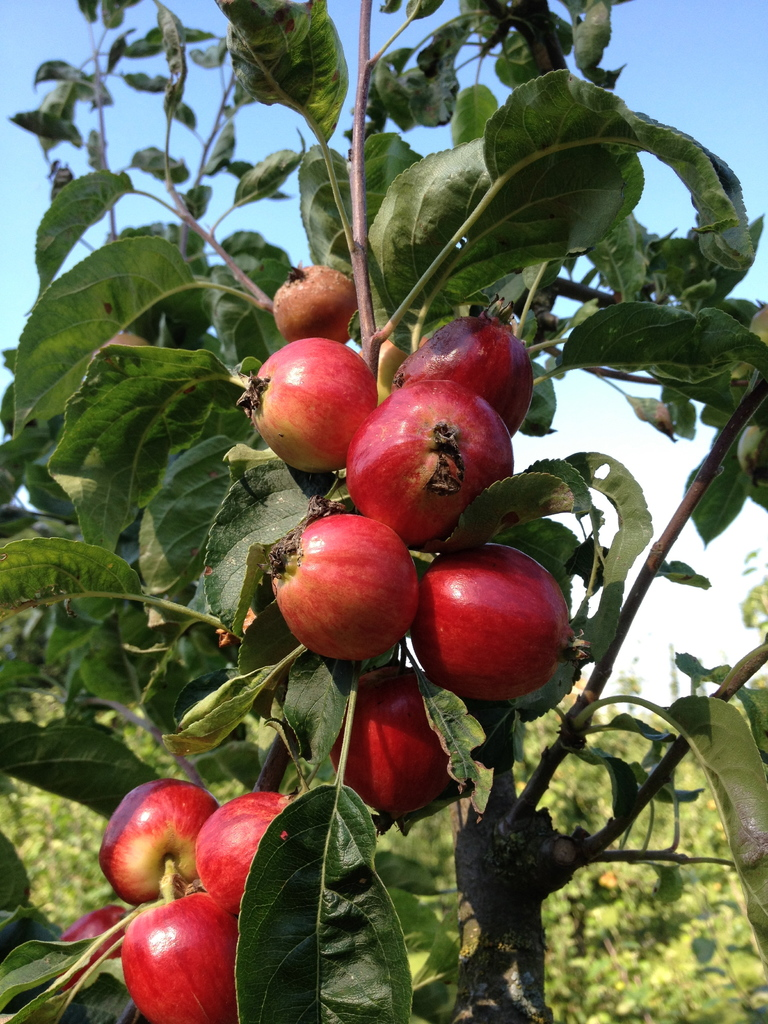Apple: (252, 325, 375, 479), (120, 888, 236, 1022)
